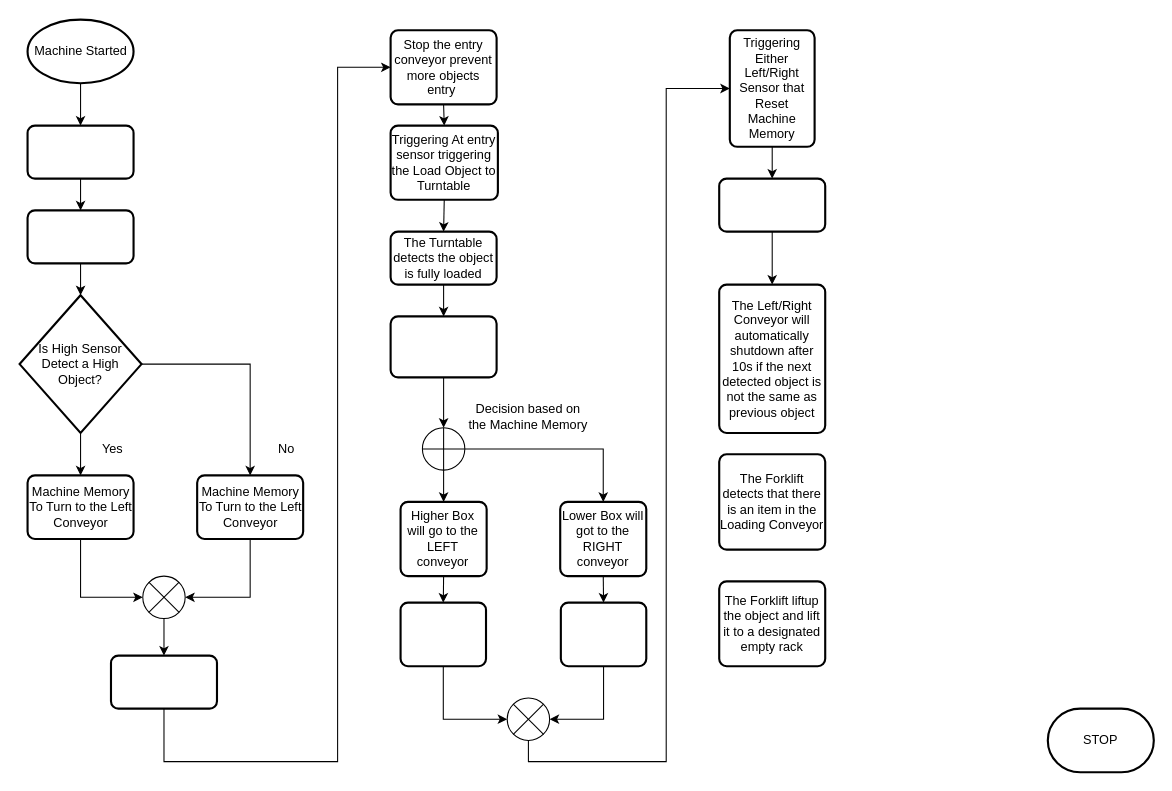
The diagram is 1172 pixels wide and 791 high, and some of its shapes have lost their labels. Each missing label, with the box of its shape:
Entering the Height Detection Sensor: (26, 209, 134, 264)
Entry Conveyor Start: (26, 124, 134, 179)
Left Conveyor Turned On: (399, 601, 487, 667)
Restart the Cycle from the Entry Conveyor: (718, 177, 826, 232)
Right Conveyor Turned On: (559, 601, 647, 667)
Start the Feeding Conveyor: (109, 654, 218, 709)
The Turntable is turning to the Unloading Position: (389, 315, 497, 378)
